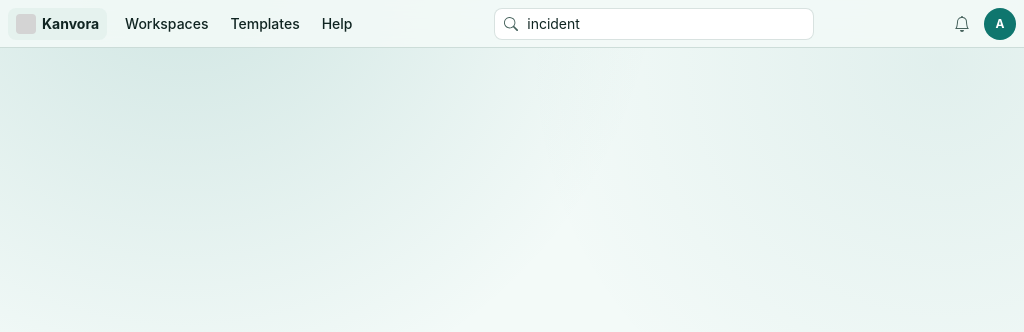
navbar template search › asks the server for the query instead of filtering a prefetched page
Focus the field named "Search workspace" at (654, 24), box [494,8,814,40]
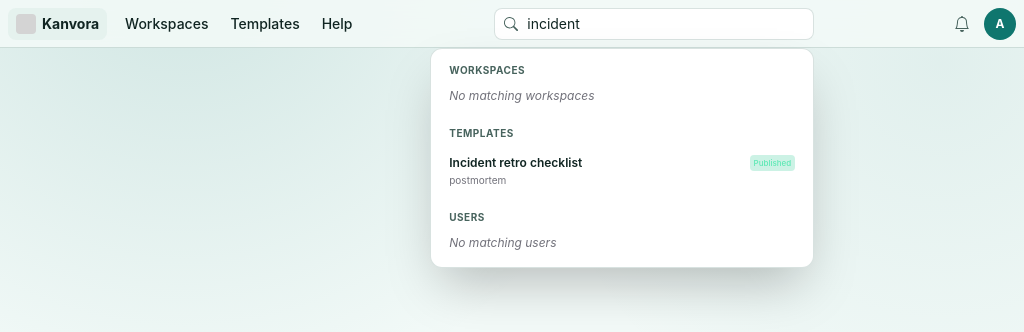
Result: the text "Incident retro checklist" is shown at [449,154,582,170]
